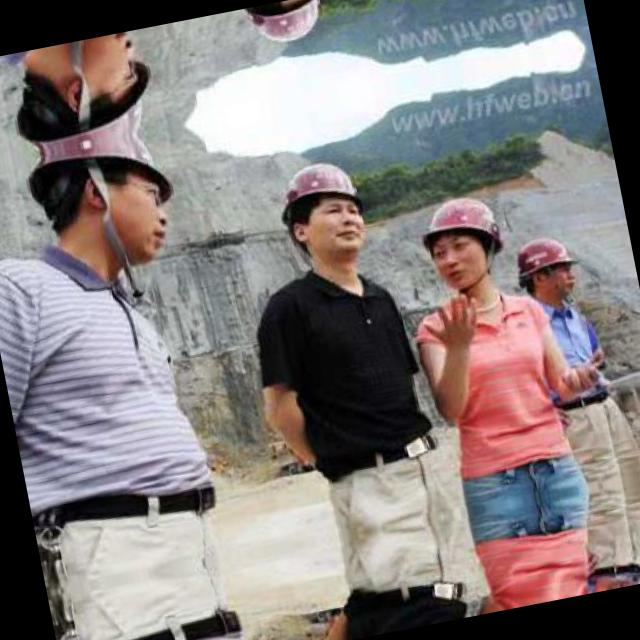helmet: (35, 133, 198, 284), (15, 26, 174, 150), (260, 144, 379, 279), (408, 178, 520, 298), (508, 224, 588, 308), (230, 0, 338, 62)
